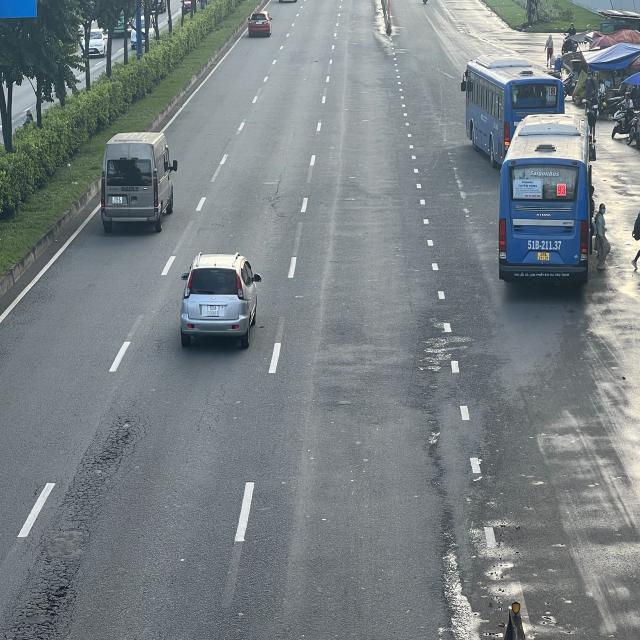car: (181, 254, 261, 347), (247, 10, 271, 38)
coach: (502, 115, 594, 286), (462, 69, 566, 168)
van: (100, 134, 178, 235)
